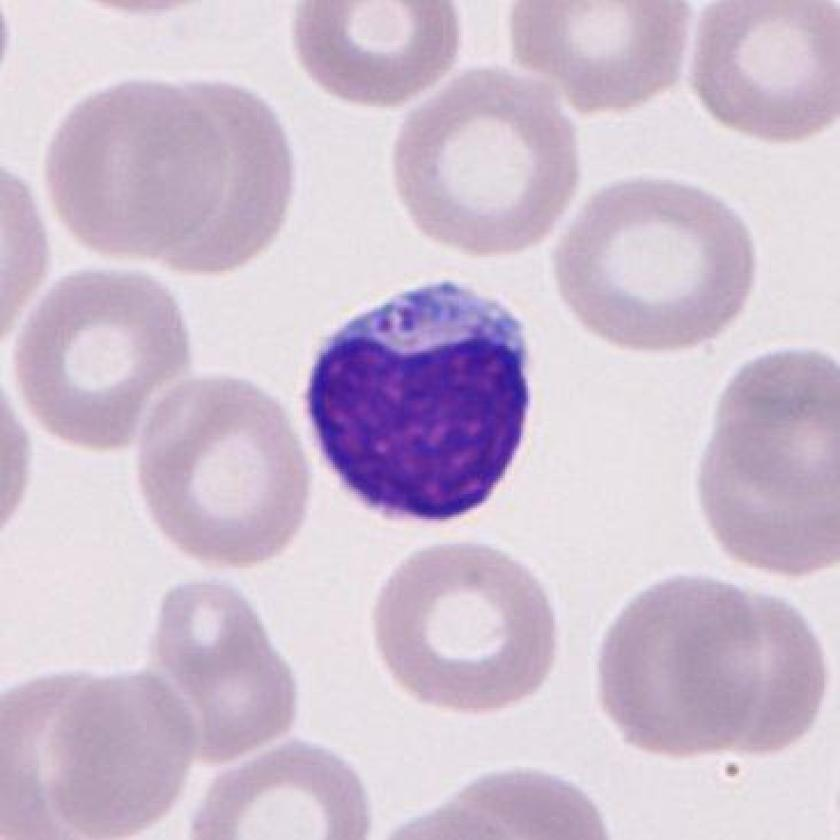lymphocyte: (286, 263, 557, 547)
